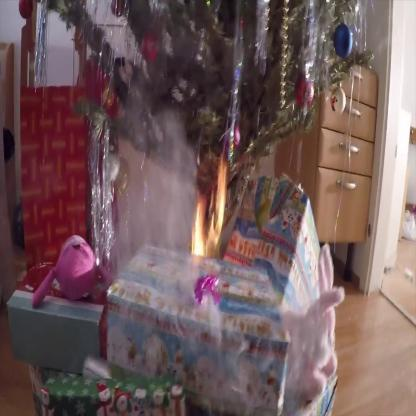fire: (180, 182, 238, 262)
